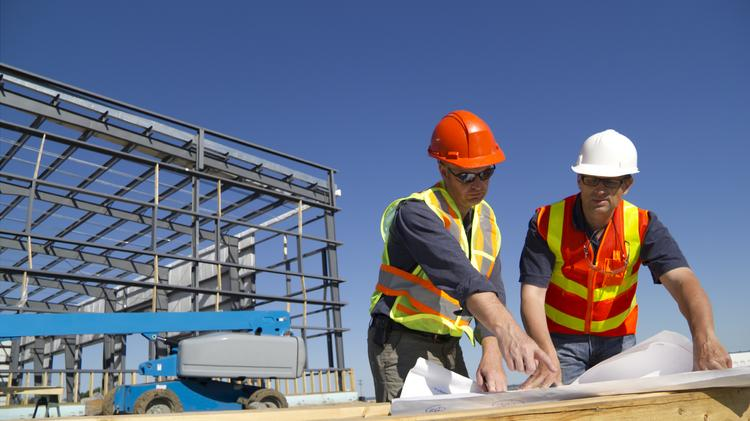epi: (524, 125, 735, 385), (365, 109, 541, 400)
